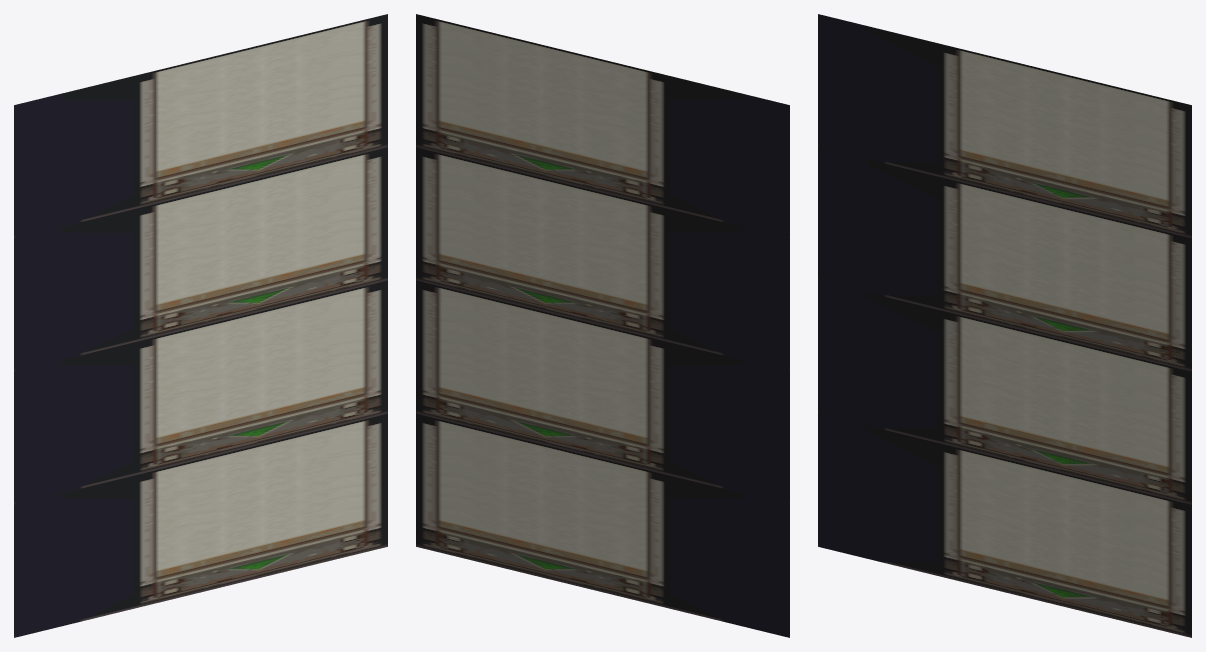
Rendered from OBJ_Editor_StairsCap_LD.glb.
The picture shows the model from 3 angles, left to right: view 1: azimuth 30°, elevation 25°; view 2: azimuth 150°, elevation 25°; view 3: azimuth 330°, elevation 25°; orthographic projection.
Parts seen in each view (by area): view 1: Renderer, Renderer (1), Renderer (2), Renderer (3); view 2: Renderer, Renderer (1), Renderer (2), Renderer (3); view 3: Renderer, Renderer (1), Renderer (2), Renderer (3).
Part boxes in pixels (x1,y1,x2,y2): Renderer: (14,413,387,637); Renderer (1): (14,280,387,504); Renderer (2): (14,147,387,371); Renderer (3): (14,14,387,238); Renderer: (416,413,789,637); Renderer (1): (416,280,789,504); Renderer (2): (416,147,789,371); Renderer (3): (416,14,789,238); Renderer: (818,413,1191,637); Renderer (1): (818,280,1191,504); Renderer (2): (818,147,1191,371); Renderer (3): (818,14,1191,238).
Size of the model in its own units: 2.94 by 4 by 6.12e-17.
4 materials, 4 textured.
